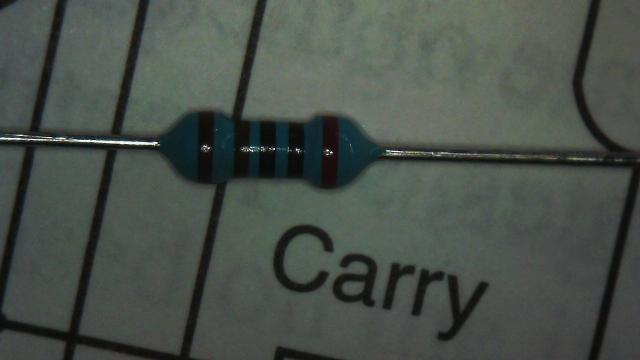black: (258, 120, 276, 177), (287, 122, 304, 177)
brown: (196, 112, 214, 182), (232, 120, 250, 177)
red: (320, 116, 338, 188)
resistor: (151, 78, 394, 211)
